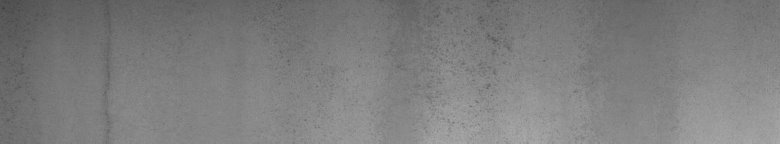ib: (437, 8, 510, 127)
